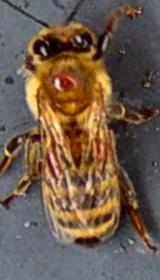varroa_mite: (51, 70, 93, 102)
